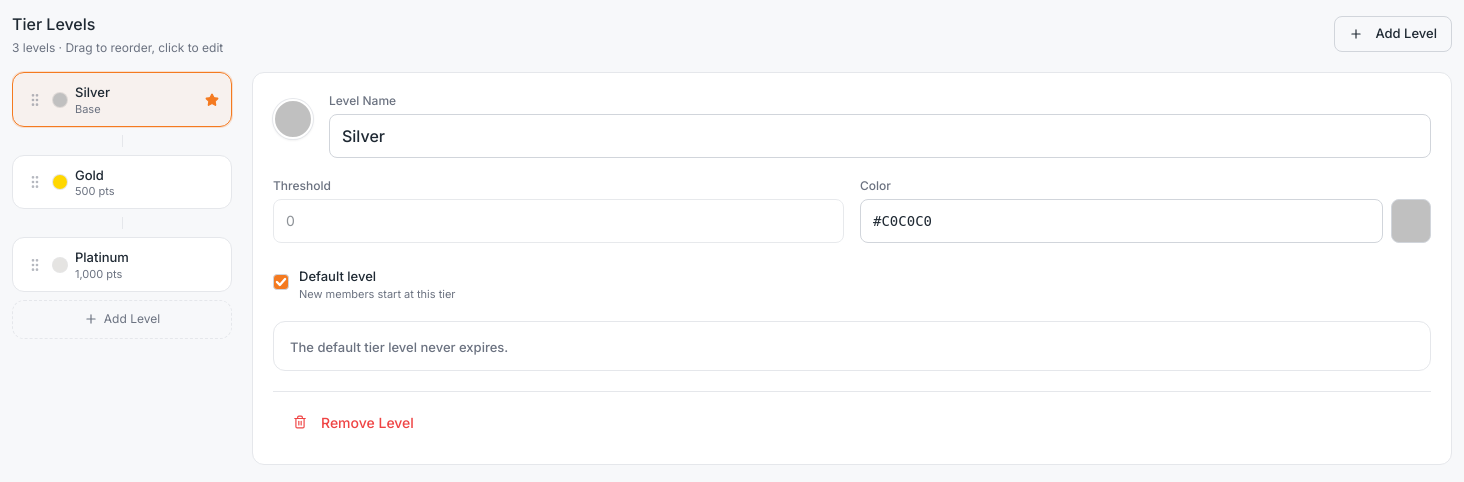
Test: TierLevelEditor › selects a level when clicking on it
Expected: the element with test id "tier-level-detail-0" is shown, [273,93,1431,444]
# Click on Gold level
Click the element with test id "tier-level-item-new-1": (122, 182) [12,155,232,209]
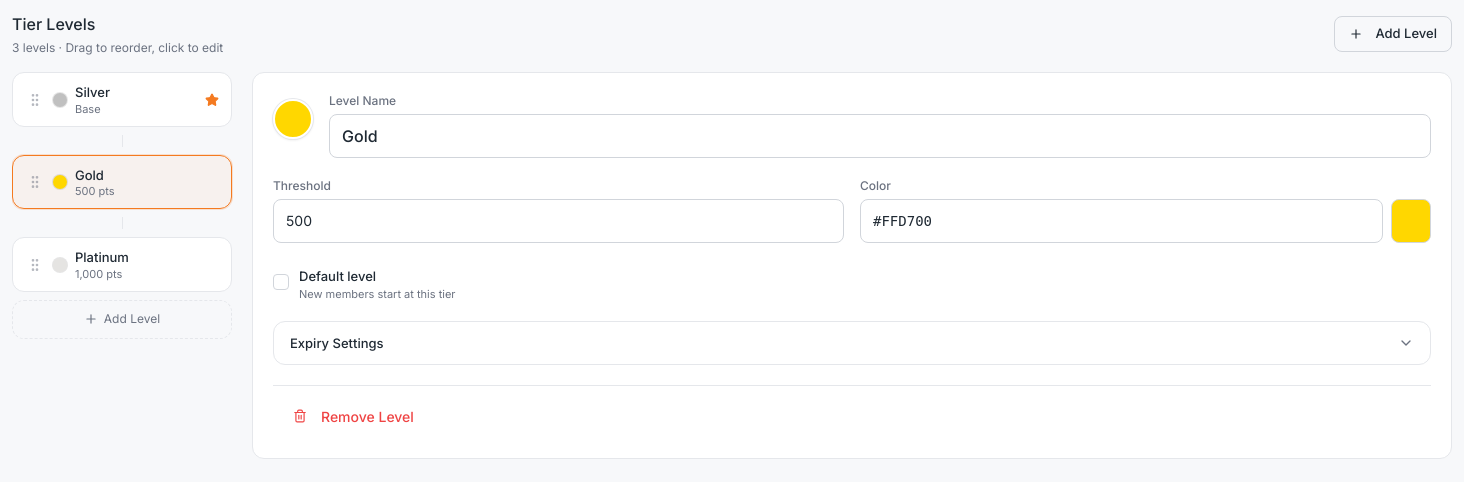
Expected: the element with test id "tier-level-detail-1" is shown, [273,93,1431,438]
